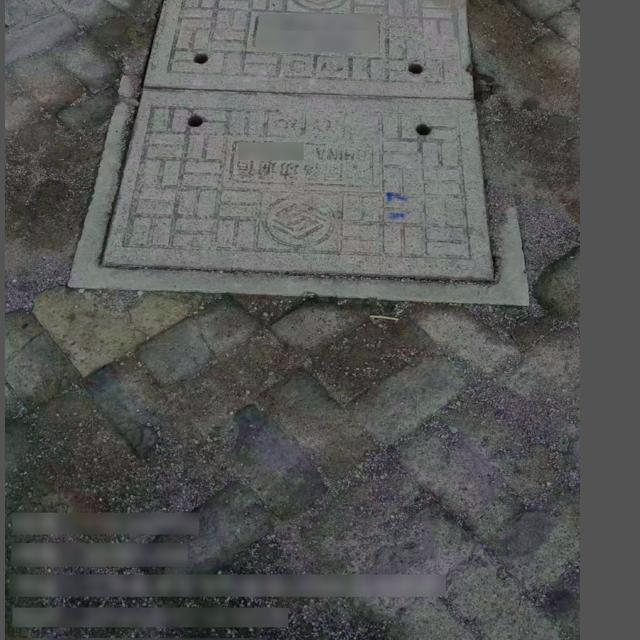good: (65, 0, 527, 310)
